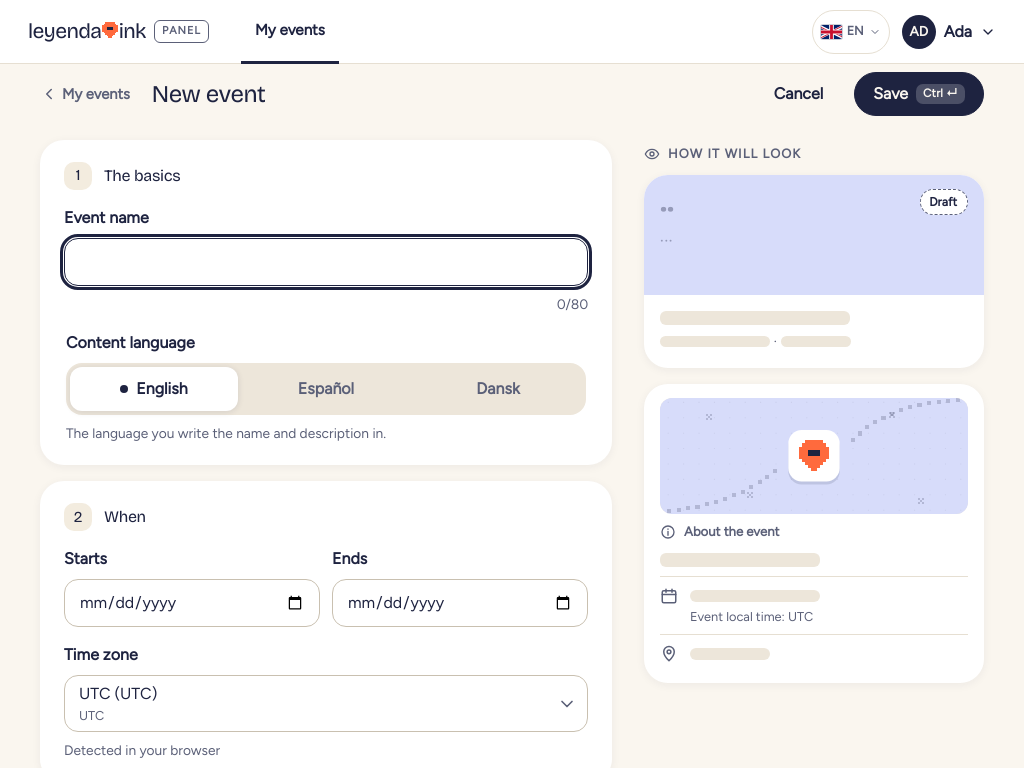
Scenario: create flow › shows client errors next to the fields and offers a one-tap https fix, sending nothing while invalid
The width and height of the screenshot is (1024, 768).
Expected: the heading "New event" is shown, [152, 80, 265, 108]
Step 1. Type "Fi" into the field labelled "Event name" → (326, 262), box [64, 238, 588, 286]
(page scrolled)
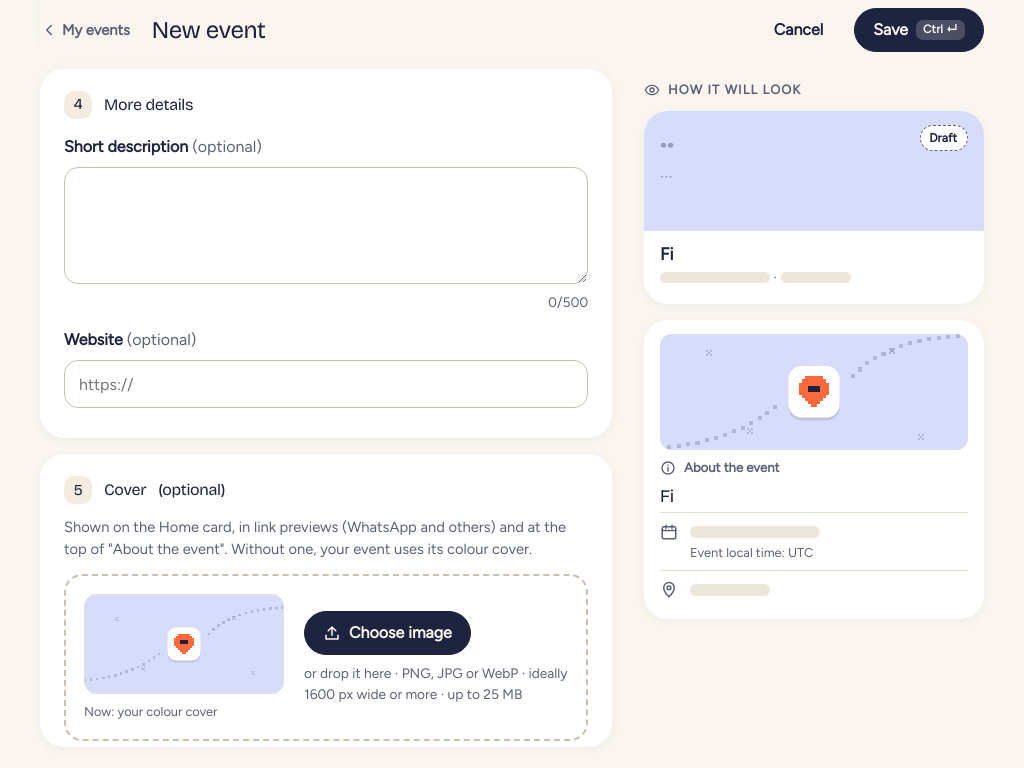
Step 2. Type "http://fiesta.com.ar" into the field labelled "Website (optional)" → (326, 384), box [64, 360, 588, 408]
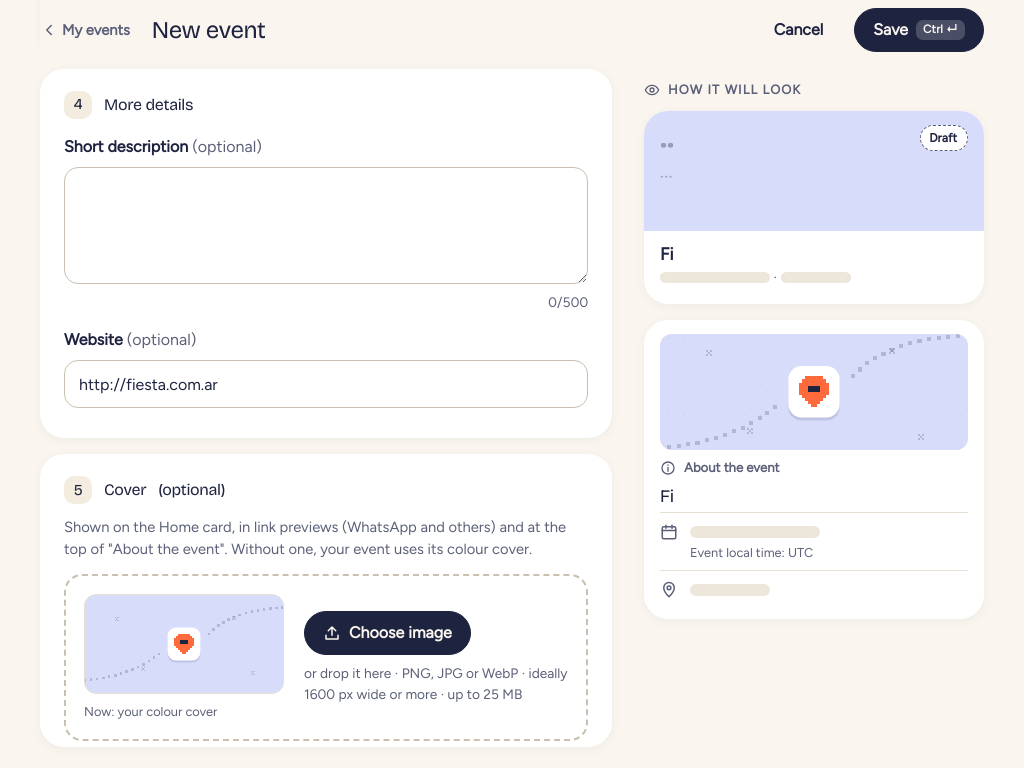
Step 3. Click the button "Save Ctrl ↵" → click(919, 30), box [854, 8, 984, 52]
(page scrolled)
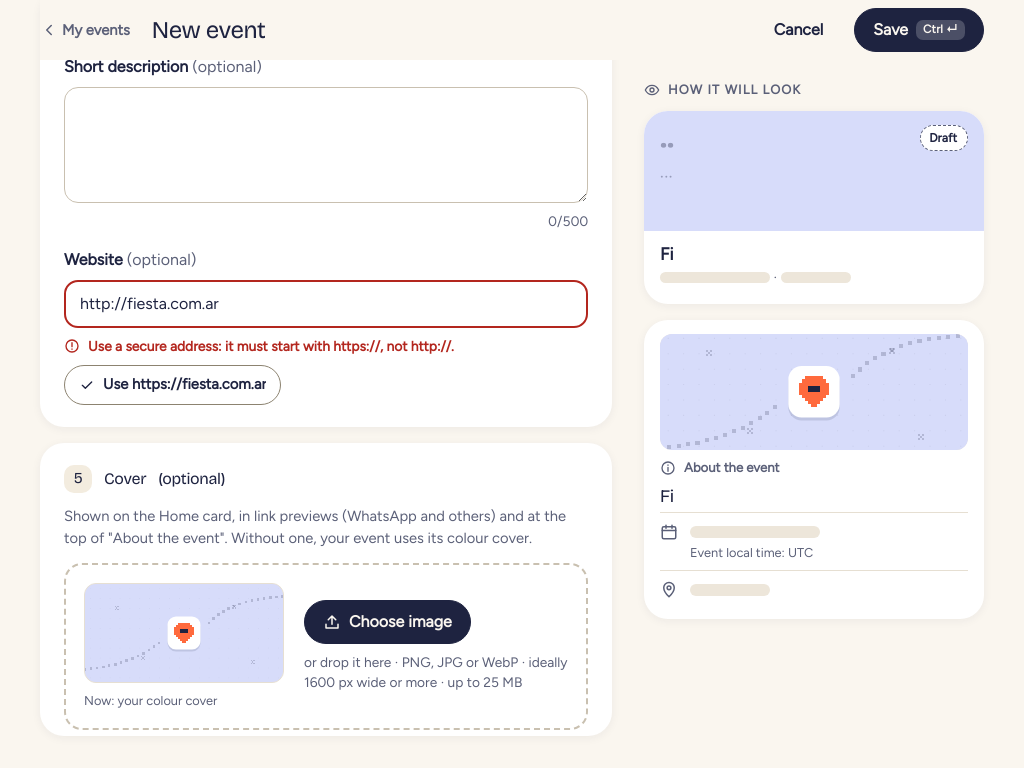
Step 4. Click the button "Use https://fiesta.com.ar" → click(173, 384), box [64, 364, 281, 404]
(page scrolled)
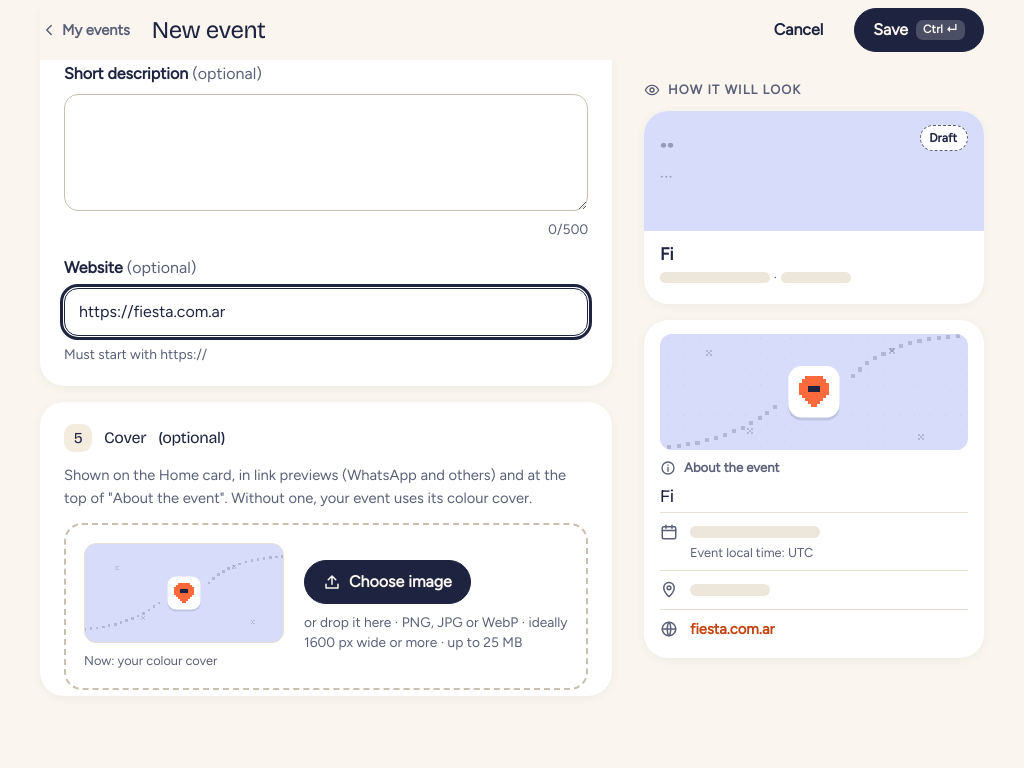
Expected: the field labelled "Website (optional)" holds "https://fiesta.com.ar", [64, 288, 588, 336]
